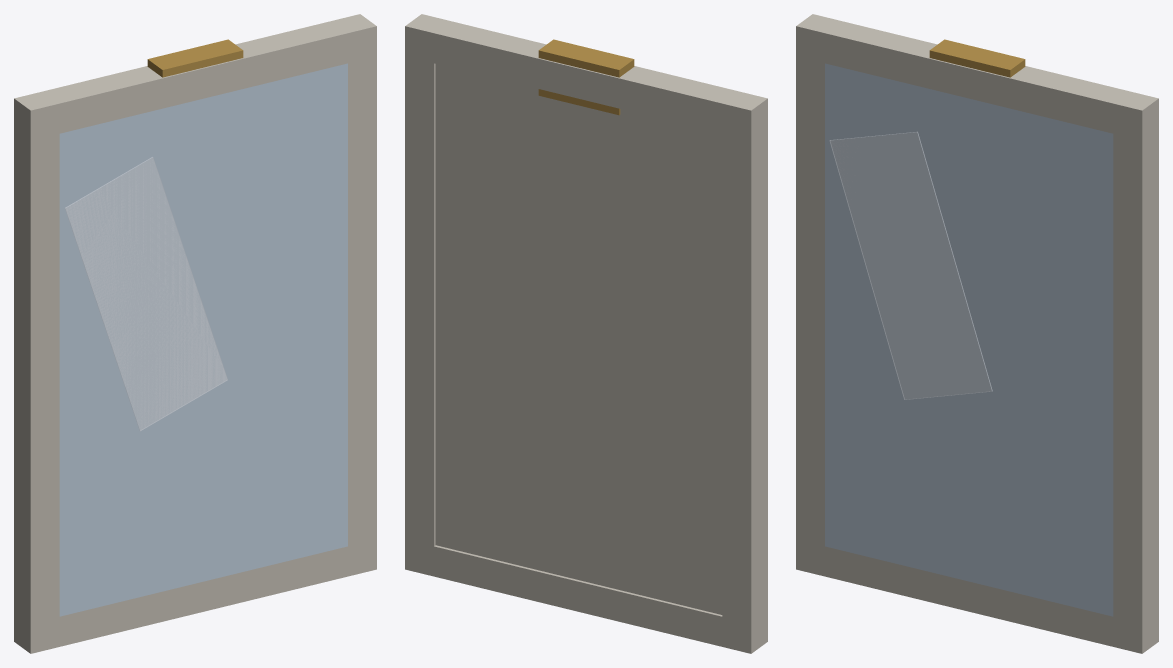
File: mirror.glb
The picture shows the model from 3 angles, left to right: view 1: azimuth 30°, elevation 25°; view 2: azimuth 150°, elevation 25°; view 3: azimuth 330°, elevation 25°; orthographic projection.
Visible parts, largest first — view 1: mirror; view 2: mirror; view 3: mirror.
Part boxes in pixels (x1=…): mirror: x1=14, y1=14, x2=376, y2=653; mirror: x1=405, y1=14, x2=767, y2=653; mirror: x1=796, y1=14, x2=1158, y2=653.
Bounding box in the file's own units: 0.6 × 0.9125 × 0.052.
